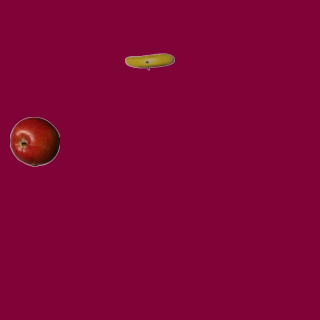Apple Braeburn: (9, 116, 59, 166)
Banana: (124, 36, 174, 86)
